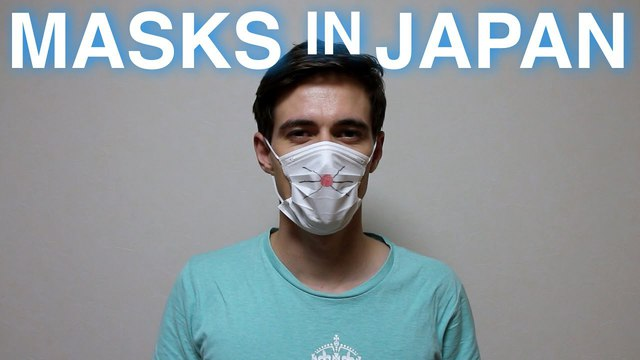mask: (274, 149, 375, 231)
